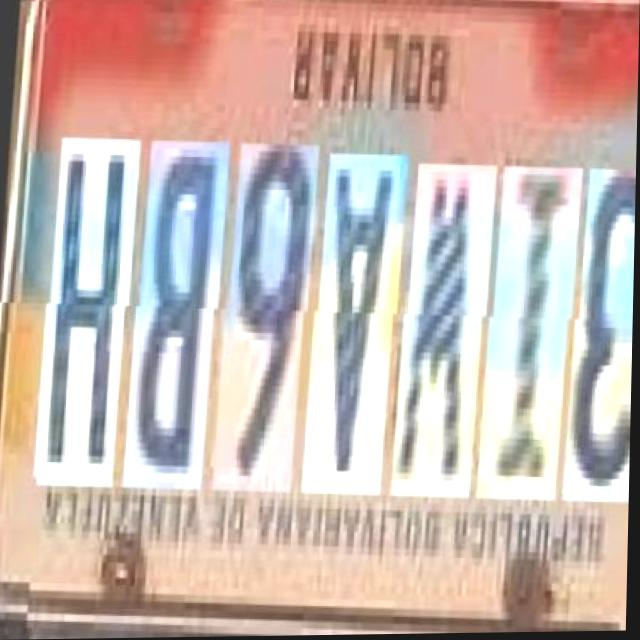3: (563, 171, 637, 508)
6: (212, 148, 310, 498)
a: (302, 157, 400, 500)
b: (123, 146, 221, 496)
h: (34, 144, 132, 494)
i: (477, 168, 575, 504)
w: (391, 166, 489, 503)
